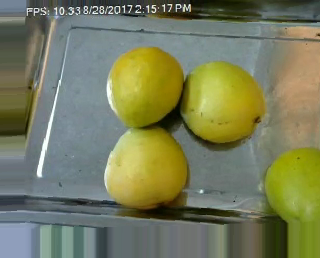Mango: (180, 53, 269, 148), (101, 125, 195, 212), (105, 43, 183, 127), (263, 148, 320, 223)
